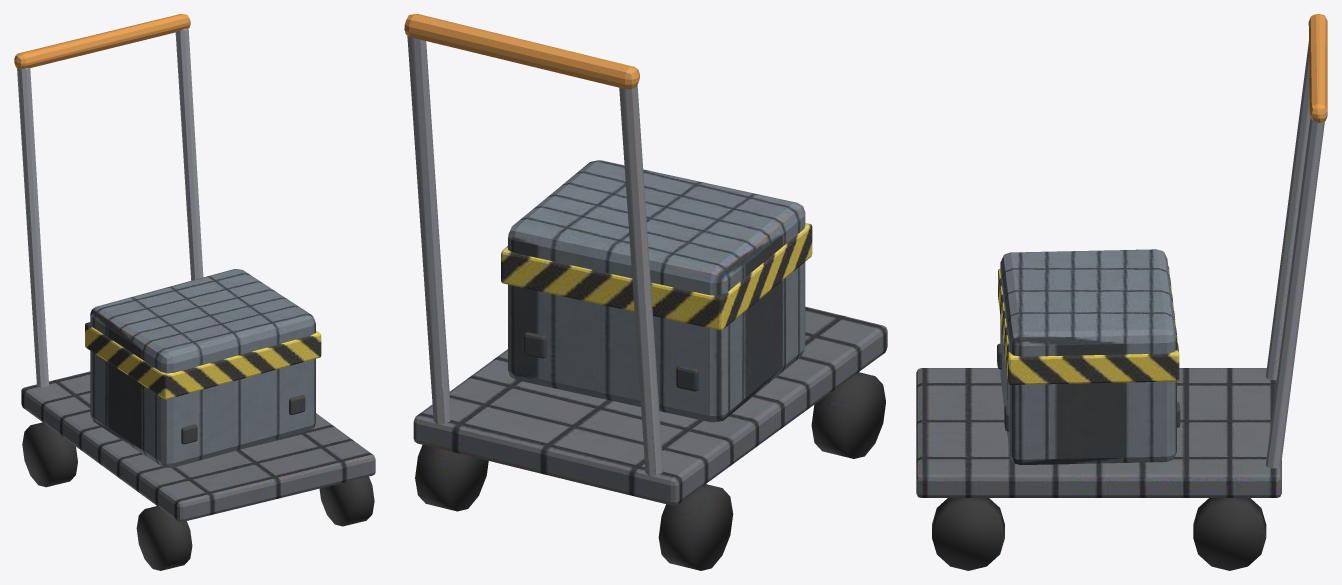
File: wheelbarrow.glb
3 views of the same model, side by side, from view 1: azimuth 30°, elevation 25°; view 2: azimuth 150°, elevation 25°; view 3: azimuth 270°, elevation 25° (orthographic). The views are drawn at different scales.
Parts seen in each view (by area): view 1: wheelbarrow; view 2: wheelbarrow; view 3: wheelbarrow.
Part boxes in pixels (x1=…): wheelbarrow: x1=14, y1=14, x2=375, y2=570; wheelbarrow: x1=404, y1=14, x2=887, y2=570; wheelbarrow: x1=916, y1=14, x2=1327, y2=570.
Bounding box in the file's own units: 0.52 × 0.9598 × 0.7876.
1 material, 1 textured.
